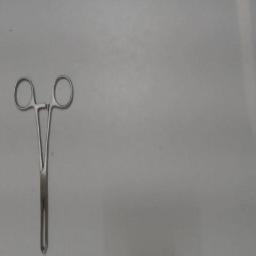Allis Tissue Forceps: (9, 69, 79, 255)
